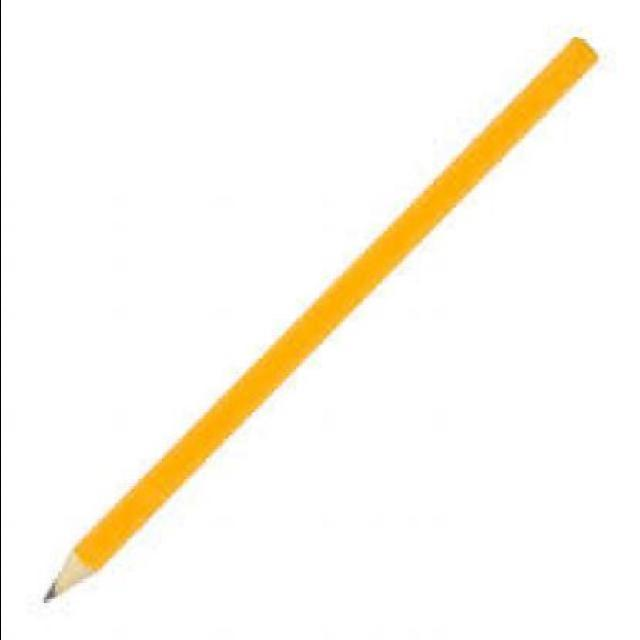Pencil: (22, 518, 122, 618)
